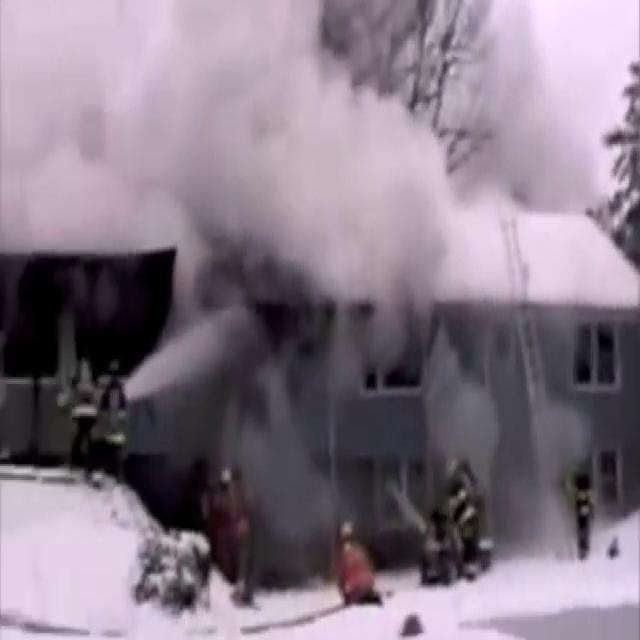Smoke: (22, 0, 372, 302), (404, 312, 598, 559), (218, 306, 382, 579), (452, 23, 622, 224)
